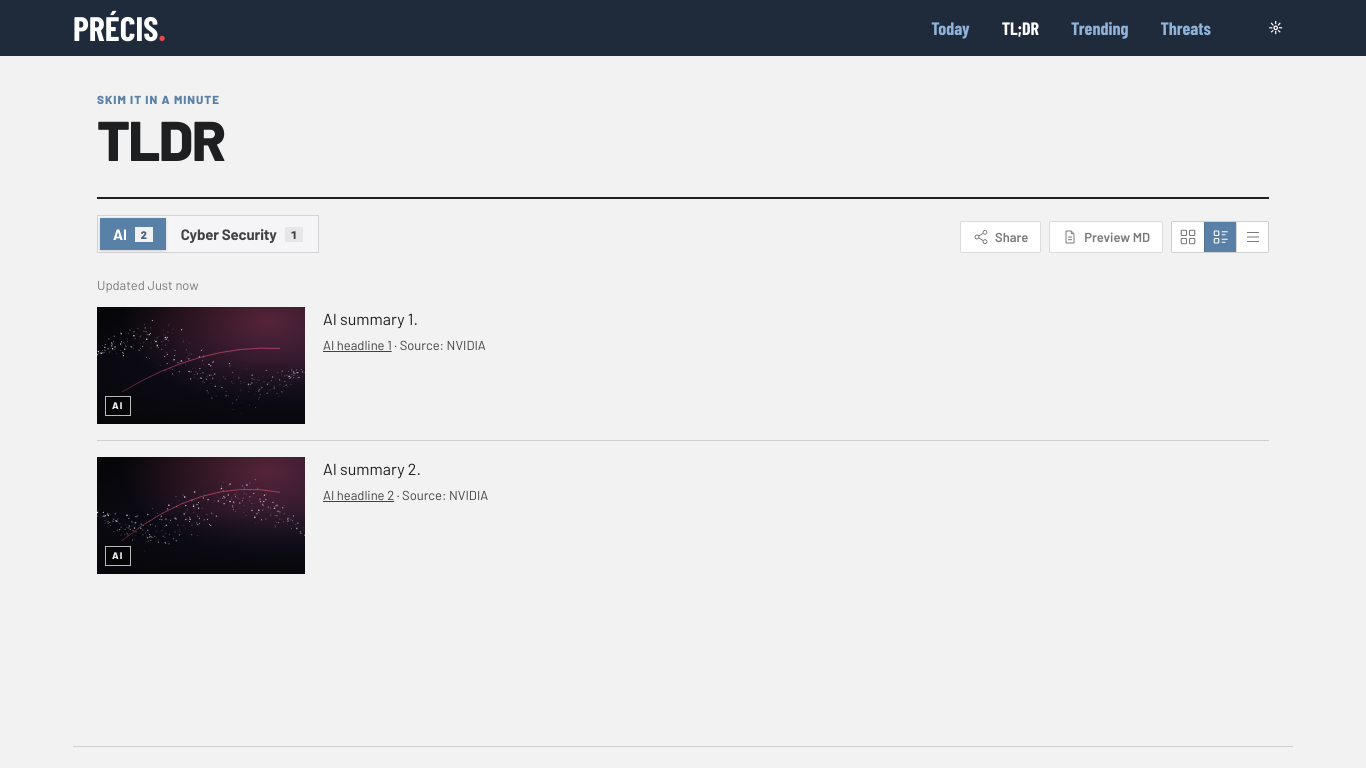
Test case: TLDR tabs › clicking a tab switches the digest shown
Expected: the text "AI summary 1." is shown, x1=323 y1=309 x2=418 y2=328
Click the tab "Cyber Security 1".
click(242, 234)  # box x1=168 y1=218 x2=316 y2=250
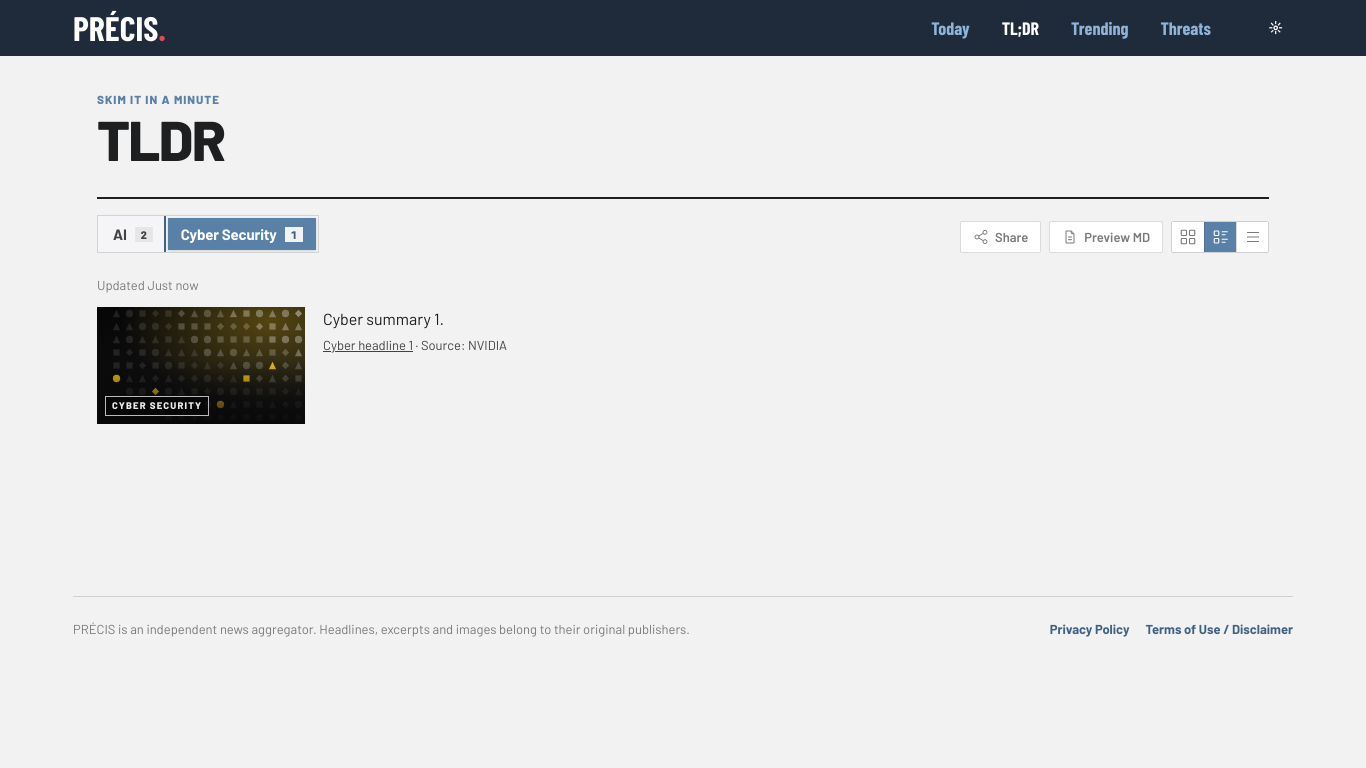
Expected: the text "Cyber summary 1." is shown, x1=323 y1=309 x2=444 y2=328
Expected: the text "AI summary 1." is gone
